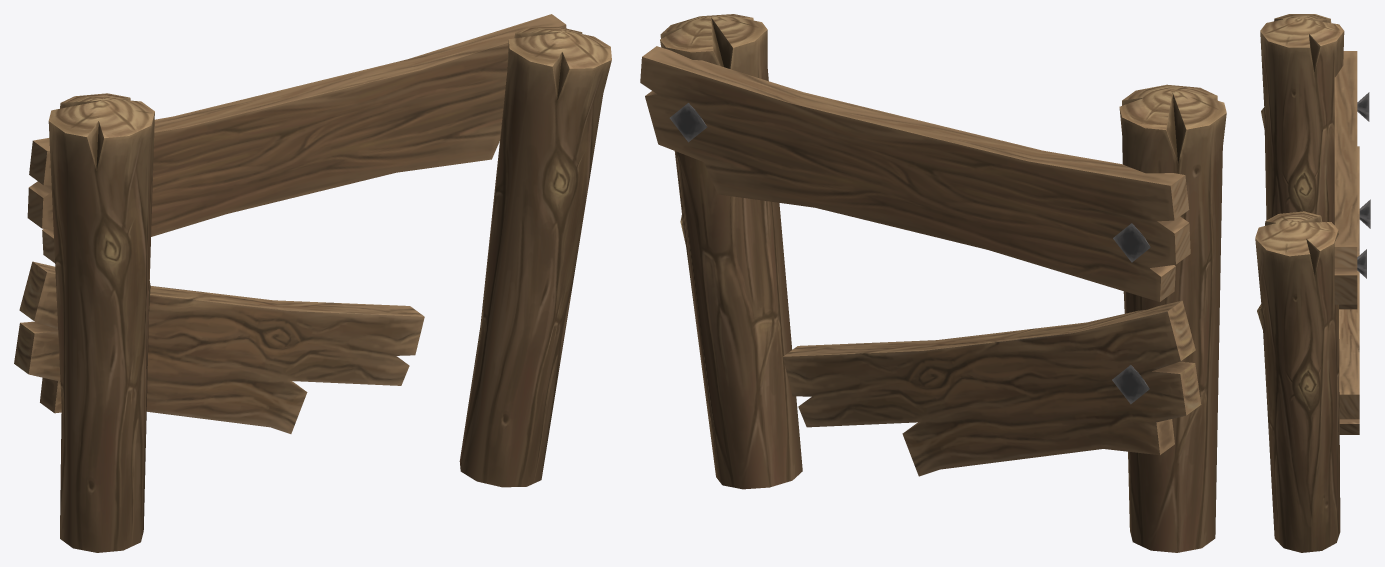
The model's file is Fence1_3.fbx.
3 renders of one model, left to right at view 1: azimuth 30°, elevation 25°; view 2: azimuth 150°, elevation 25°; view 3: azimuth 270°, elevation 25°, orthographic. The views are drawn at different scales.
Visible parts, largest first — view 1: polySurface123; view 2: polySurface123; view 3: polySurface123.
Part boxes in pixels (left/top/right/bottom): polySurface123: left=14, top=14, right=611, bottom=552; polySurface123: left=640, top=14, right=1226, bottom=552; polySurface123: left=1255, top=14, right=1370, bottom=552.
Bounding box in the file's own units: 88.63 × 73.08 × 20.78.
1 material, 1 textured.
